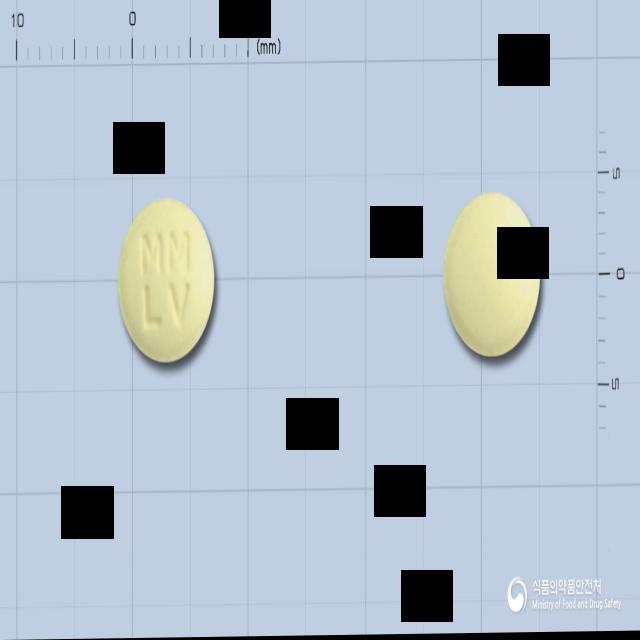Levofuracin: (117, 195, 215, 365), (443, 191, 541, 359)
